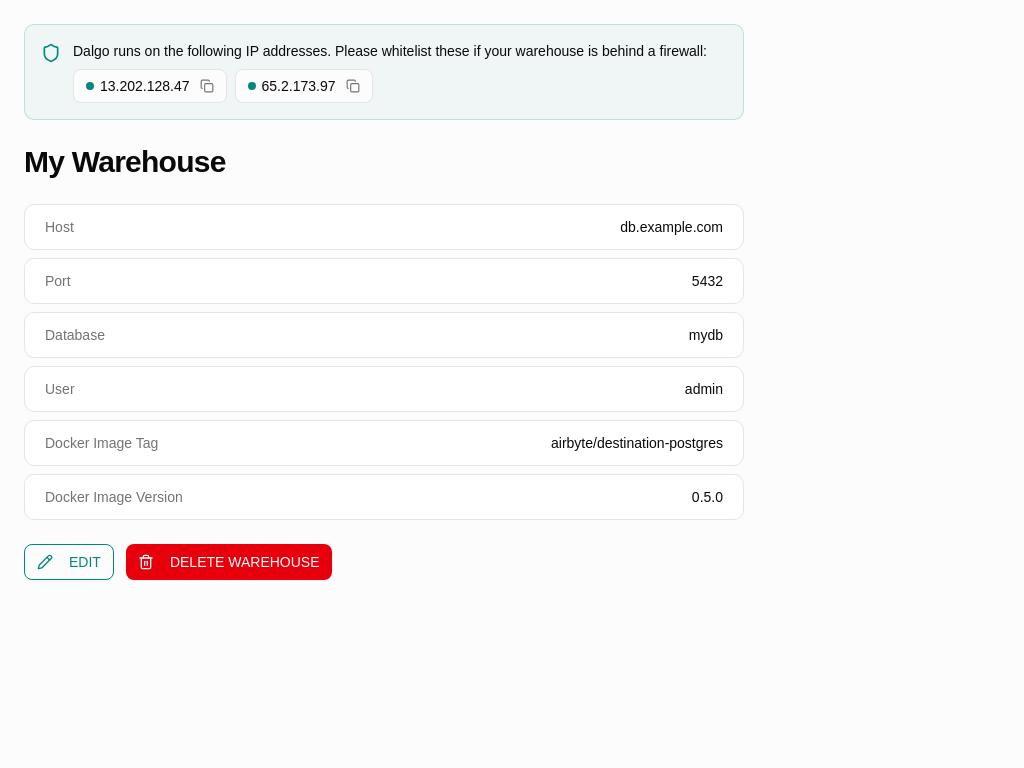
Scenario: WarehouseDisplay › opens delete confirmation dialog and cancel closes it
Click the button with test id "delete-warehouse-btn".
click(229, 562)  # box [126,544,332,580]
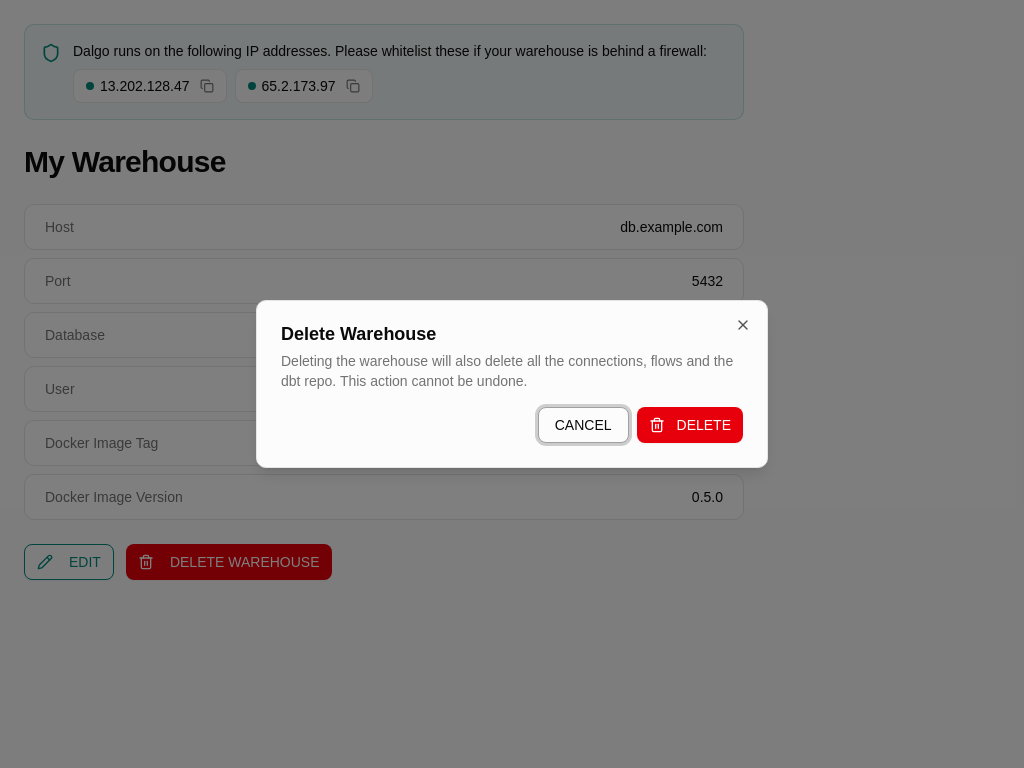
Check: the button with test id "confirm-delete-btn" is shown, box [636,407,743,443]
Click the button with test id "cancel-delete-btn".
click(583, 425)  # box [538,407,628,443]
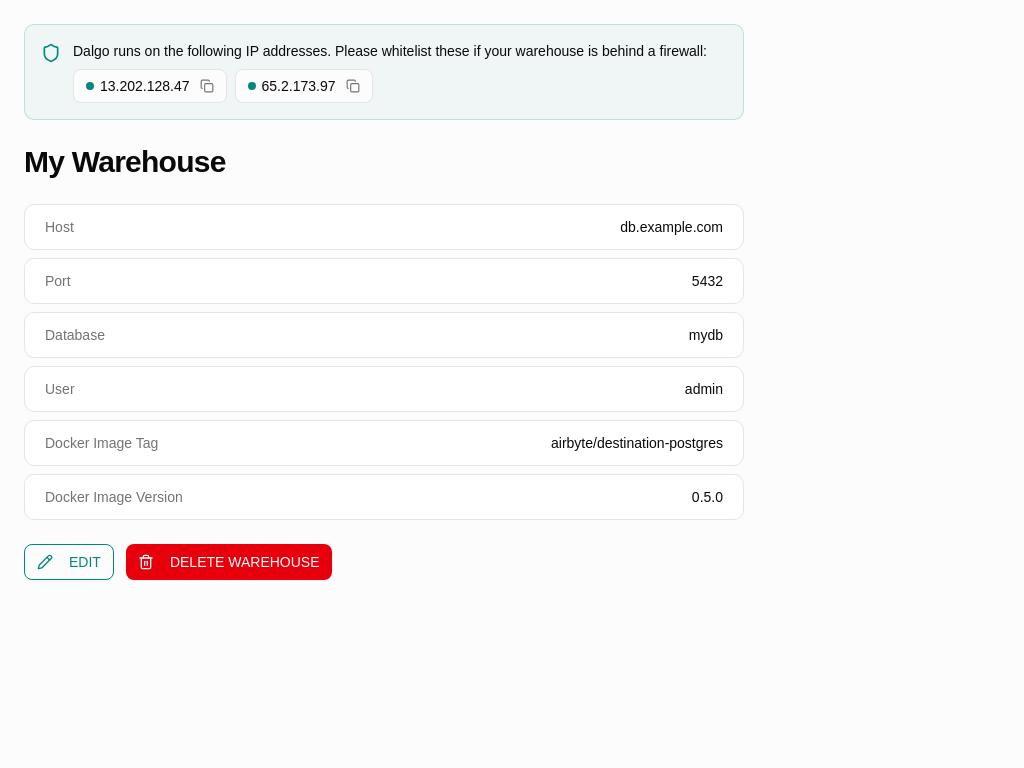
Check: the button with test id "confirm-delete-btn" is gone
